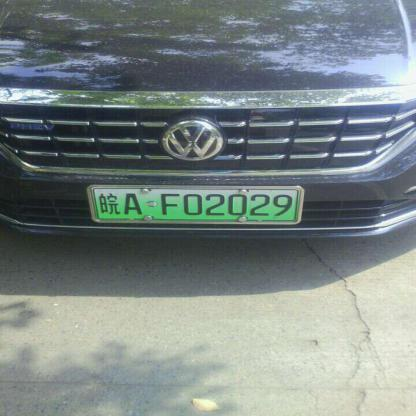lp: (94, 188, 298, 219)
